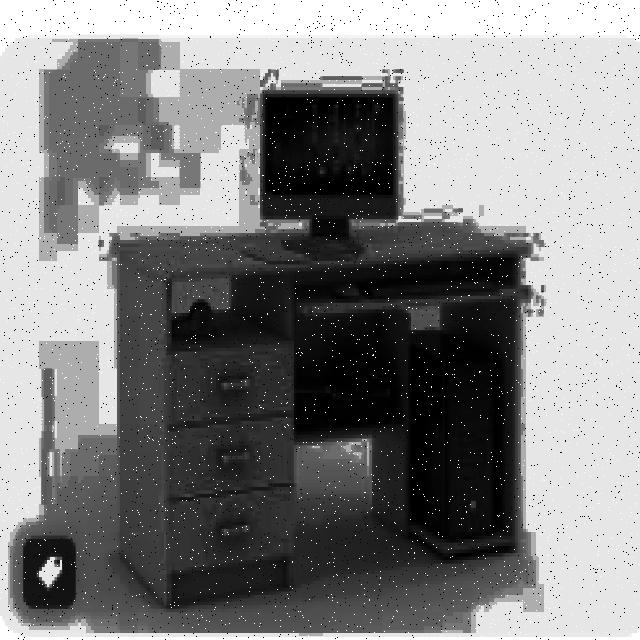table: (115, 219, 528, 605)
